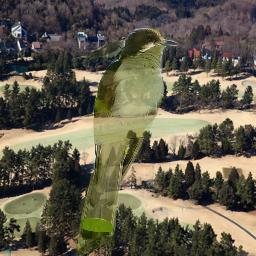Cuckoo: (77, 28, 179, 256), (71, 36, 125, 60)
